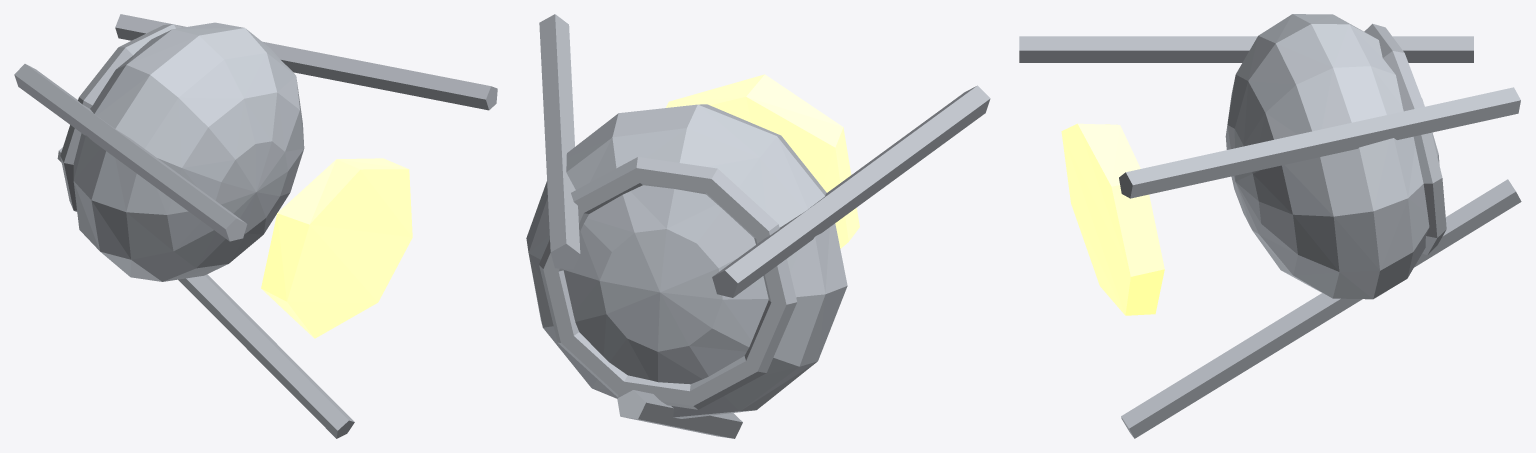
The model's file is Cauldron.fbx.
3 views of the same model, side by side, from view 1: azimuth 30°, elevation 25°; view 2: azimuth 150°, elevation 25°; view 3: azimuth 270°, elevation 25° (orthographic). The views are drawn at different scales.
Parts seen in each view (by area): view 1: fam_iron, fam_steel_dark, fam_ember_emit; view 2: fam_iron, fam_steel_dark, fam_ember_emit; view 3: fam_iron, fam_steel_dark, fam_ember_emit.
Part boxes in pixels (x1,y1,x2,y2): fam_iron: (73,22,304,281); fam_steel_dark: (14,14,497,438); fam_ember_emit: (261,158,412,338); fam_iron: (526,104,847,418); fam_steel_dark: (539,14,990,438); fam_ember_emit: (666,74,859,248); fam_iron: (1225,14,1439,299); fam_steel_dark: (1019,23,1521,438); fam_ember_emit: (1061,123,1164,315).
Size of the model in its own units: 1.84 by 1.88 by 2.24.
